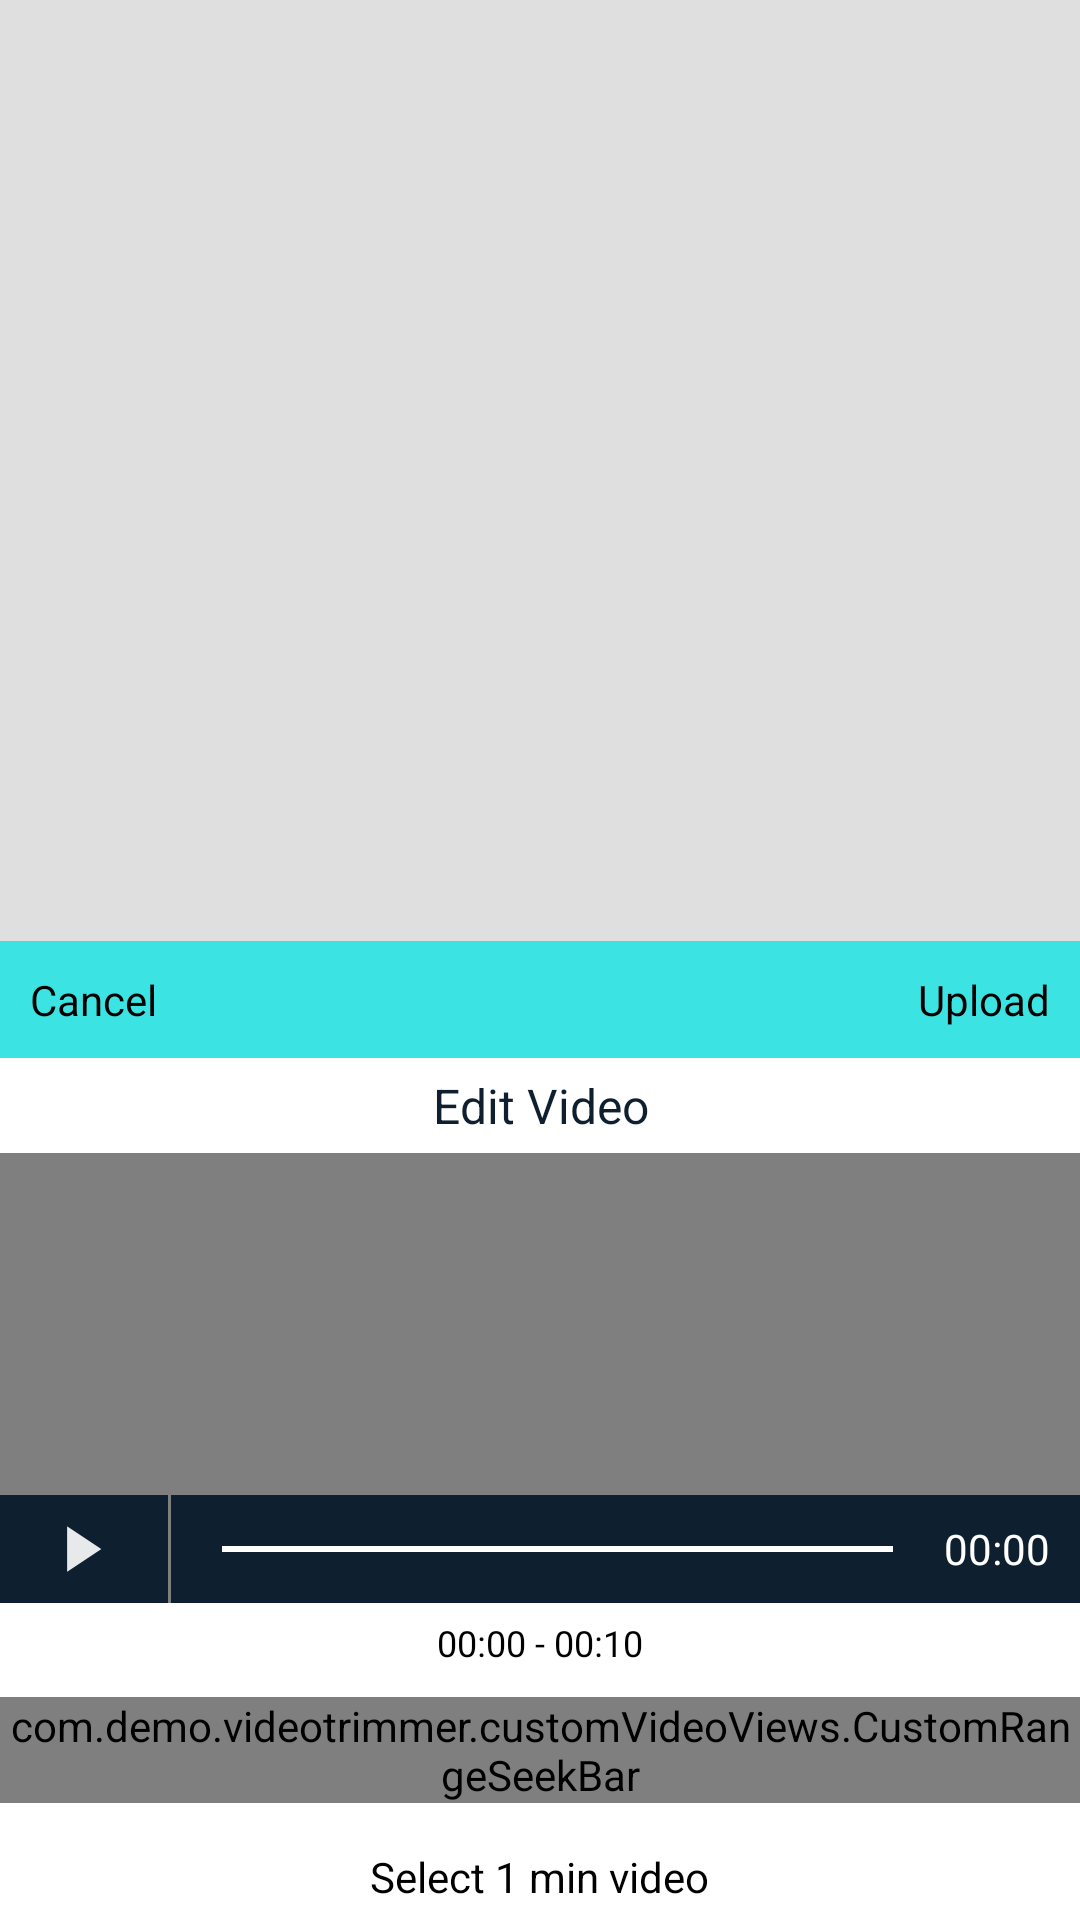

Where to tap for icons on this 1080×1920 app screen, as point (x, y):
play: point (84, 1549)
